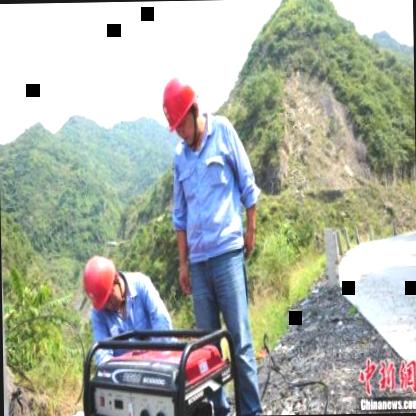helmet: (158, 68, 208, 148), (77, 250, 124, 314)
